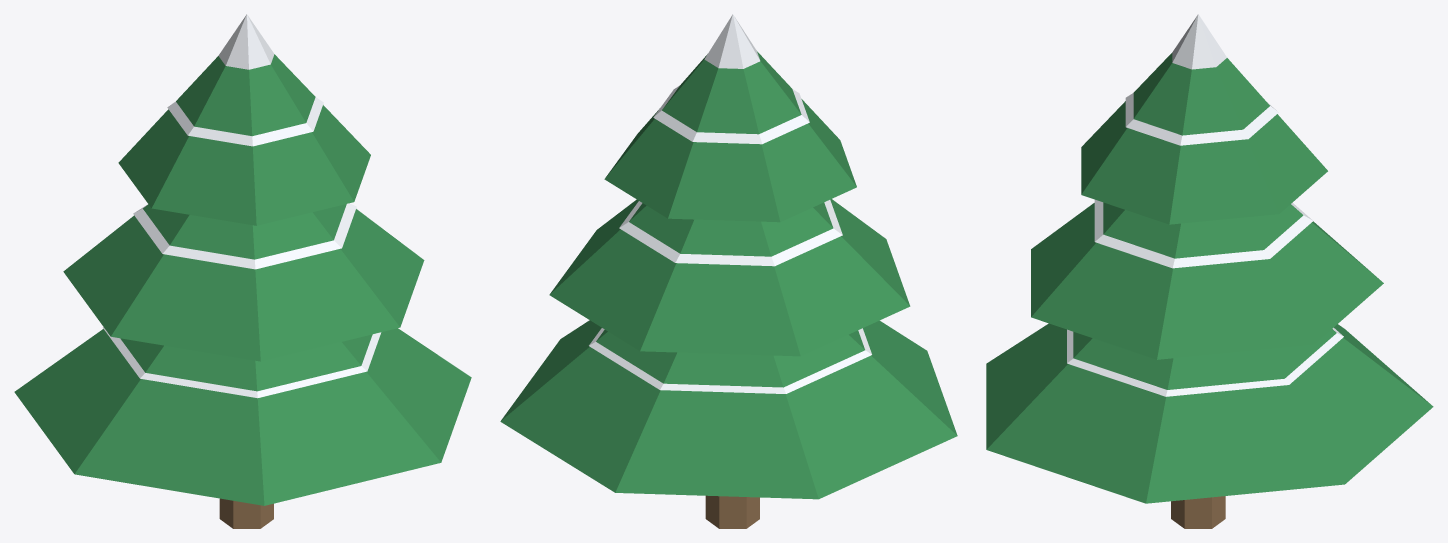
File: Pino.fbx
3 renders of one model, left to right at view 1: azimuth 30°, elevation 25°; view 2: azimuth 150°, elevation 25°; view 3: azimuth 270°, elevation 25°, orthographic.
Visible parts, largest first — view 1: Ramas0, Ramas1, Ramas2, Nieve1, Nieve0, Nieve2, Punta, Tronco; view 2: Ramas0, Ramas1, Ramas2, Nieve1, Nieve0, Nieve2, Punta, Tronco; view 3: Ramas0, Ramas1, Ramas2, Nieve1, Nieve0, Nieve2, Punta, Tronco.
Boxes of the visible parts, left/top/right/bottom form: Ramas0: left=14, top=328, right=471, bottom=505; Ramas1: left=63, top=204, right=424, bottom=361; Ramas2: left=118, top=54, right=370, bottom=225; Nieve1: left=133, top=203, right=356, bottom=269; Nieve0: left=103, top=327, right=381, bottom=398; Nieve2: left=167, top=97, right=323, bottom=146; Punta: left=218, top=14, right=274, bottom=69; Tronco: left=219, top=498, right=273, bottom=528; Ramas0: left=500, top=320, right=957, bottom=499; Ramas1: left=549, top=199, right=910, bottom=356; Ramas2: left=604, top=51, right=856, bottom=222; Nieve1: left=619, top=200, right=842, bottom=266; Nieve0: left=589, top=328, right=871, bottom=393; Nieve2: left=653, top=85, right=809, bottom=144; Punta: left=704, top=14, right=760, bottom=68; Tronco: left=705, top=495, right=759, bottom=528; Ramas0: left=986, top=323, right=1433, bottom=503; Ramas1: left=1031, top=202, right=1383, bottom=359; Ramas2: left=1081, top=53, right=1327, bottom=224; Nieve1: left=1094, top=199, right=1312, bottom=268; Nieve0: left=1067, top=327, right=1343, bottom=396; Nieve2: left=1125, top=93, right=1278, bottom=145; Punta: left=1172, top=14, right=1226, bottom=69; Tronco: left=1171, top=496, right=1225, bottom=528.
Bounding box in the file's own units: 3.7 × 4.5 × 3.61.
